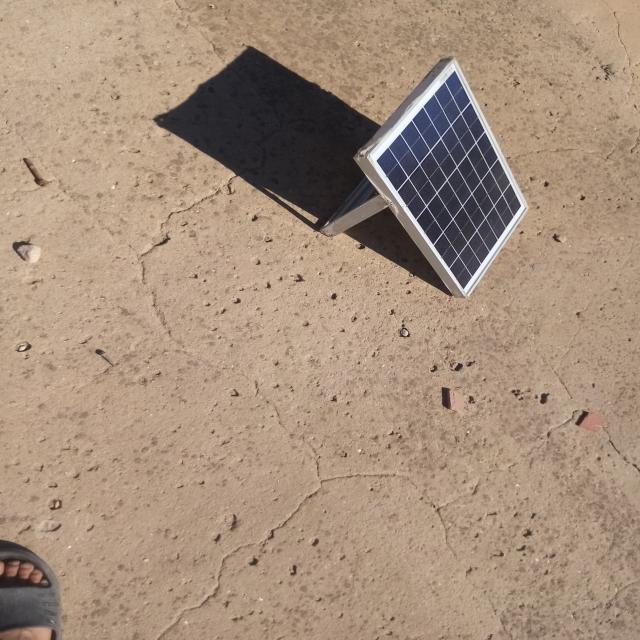no faulty: (365, 58, 529, 298)
